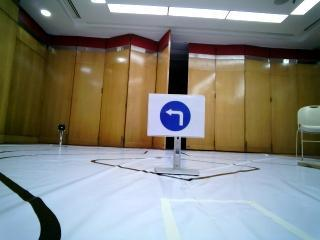left: (152, 95, 202, 137)
